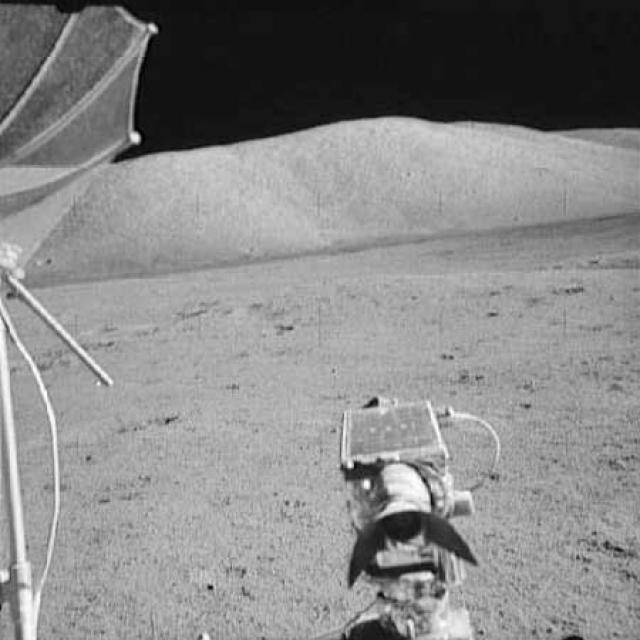artifact: (2, 0, 163, 390), (0, 390, 75, 639)
crater: (560, 243, 638, 276), (120, 408, 180, 436), (48, 337, 118, 356), (3, 351, 60, 374)
